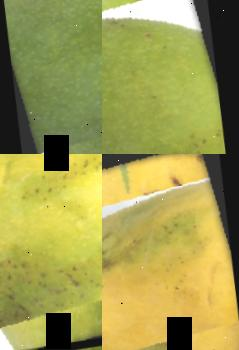PartiallyRipe: (0, 154, 102, 350)
Ripe: (102, 154, 239, 350)
Unripe: (102, 0, 238, 154), (0, 0, 102, 154)
